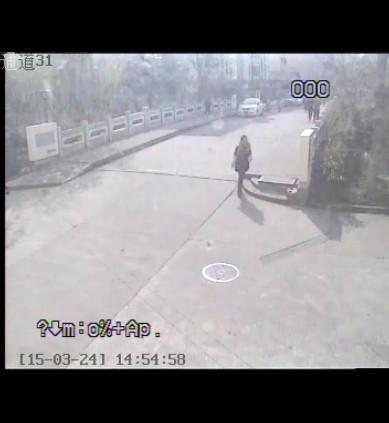person: (229, 131, 255, 198), (201, 96, 215, 121), (304, 98, 314, 123), (312, 99, 321, 122)
